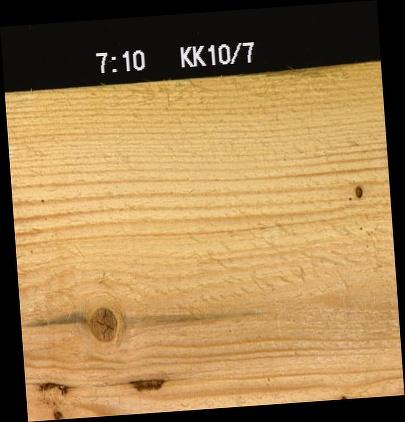dry_knot: (353, 183, 362, 200)
sound_knot: (89, 305, 116, 341)
